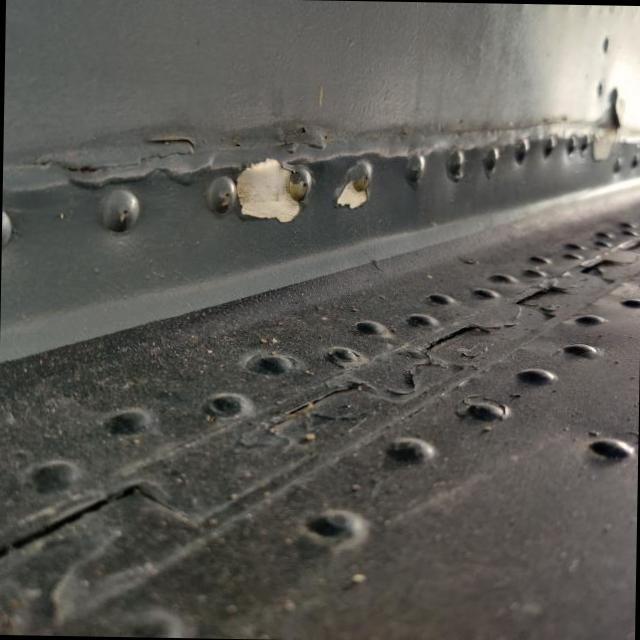Paint-off: (208, 158, 312, 222), (335, 159, 373, 208)
